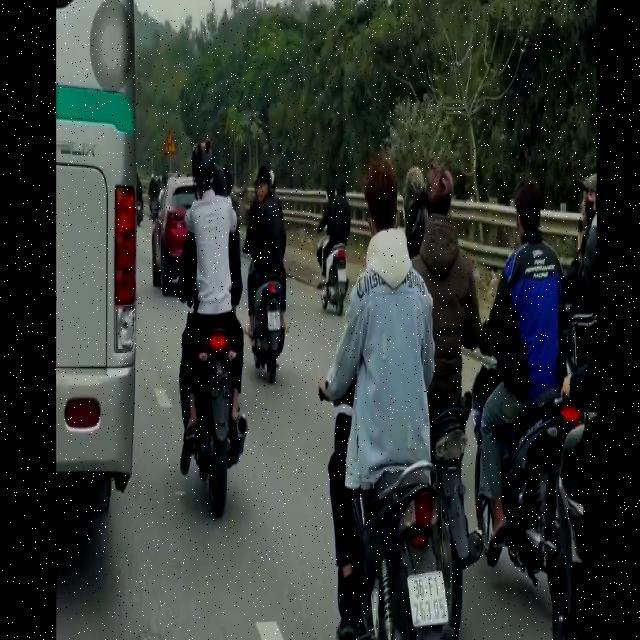helmet: (192, 144, 215, 214)
no_helmet: (366, 162, 403, 266), (513, 178, 546, 257)
